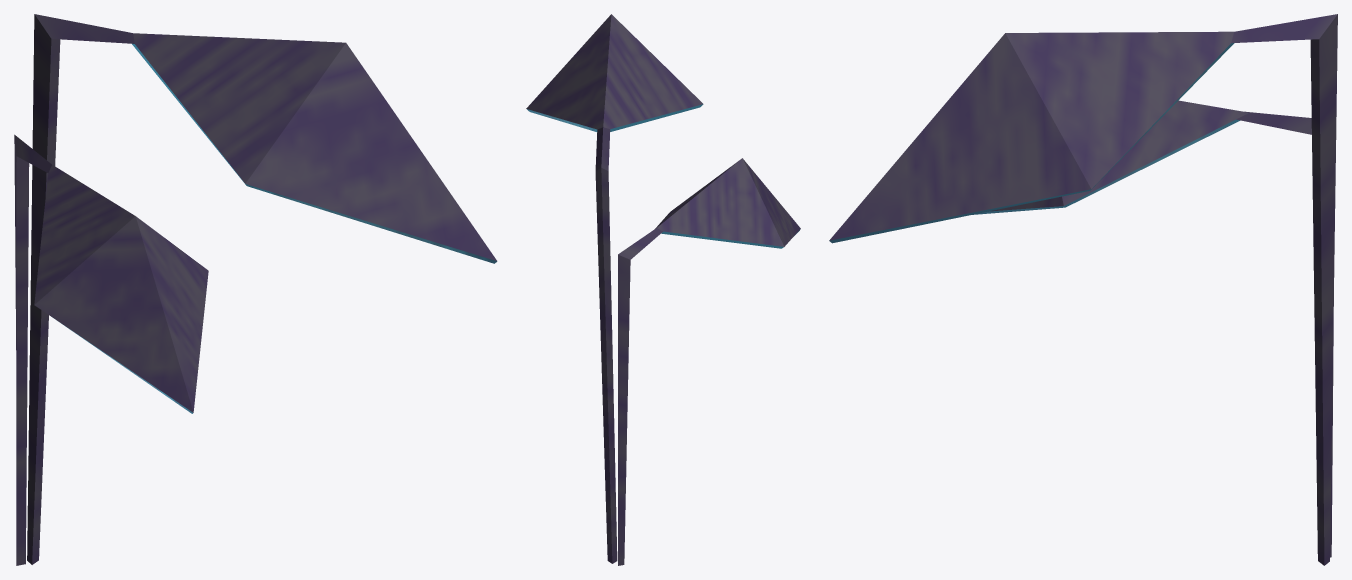
The model's file is Colony_Flower_Art.fbx.
The picture shows the model from 3 angles, left to right: view 1: azimuth 30°, elevation 25°; view 2: azimuth 150°, elevation 25°; view 3: azimuth 270°, elevation 25°; orthographic projection. The views are drawn at different scales.
Parts seen in each view (by area): view 1: Colony_Flower_Art; view 2: Colony_Flower_Art; view 3: Colony_Flower_Art.
Boxes of the visible parts, x1,y1,x2,y2 form: Colony_Flower_Art: (14,14,497,565); Colony_Flower_Art: (526,14,800,565); Colony_Flower_Art: (829,14,1337,565).
Size of the model in its own units: 81.72 by 133 by 101.
